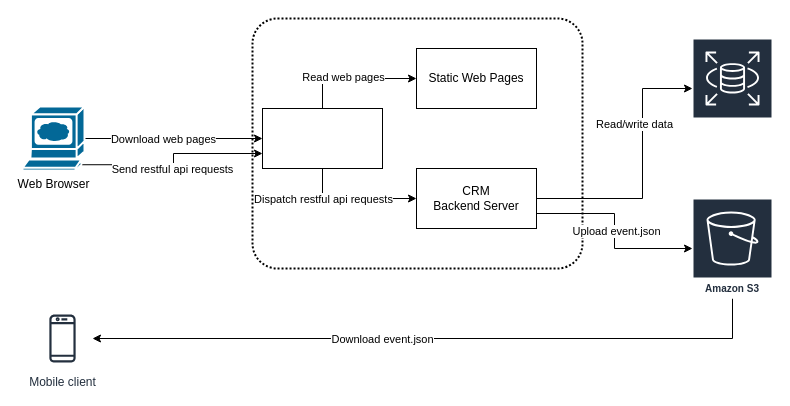
The diagram is 790 pixels wide and 406 high, and some of its shapes have lost their labels. The shapes that lost their labels are listed below. From the top down, each one's centre as x and y in pixels, then its label:
(x=732, y=88): Amazon RDS
(x=322, y=138): Nginx
